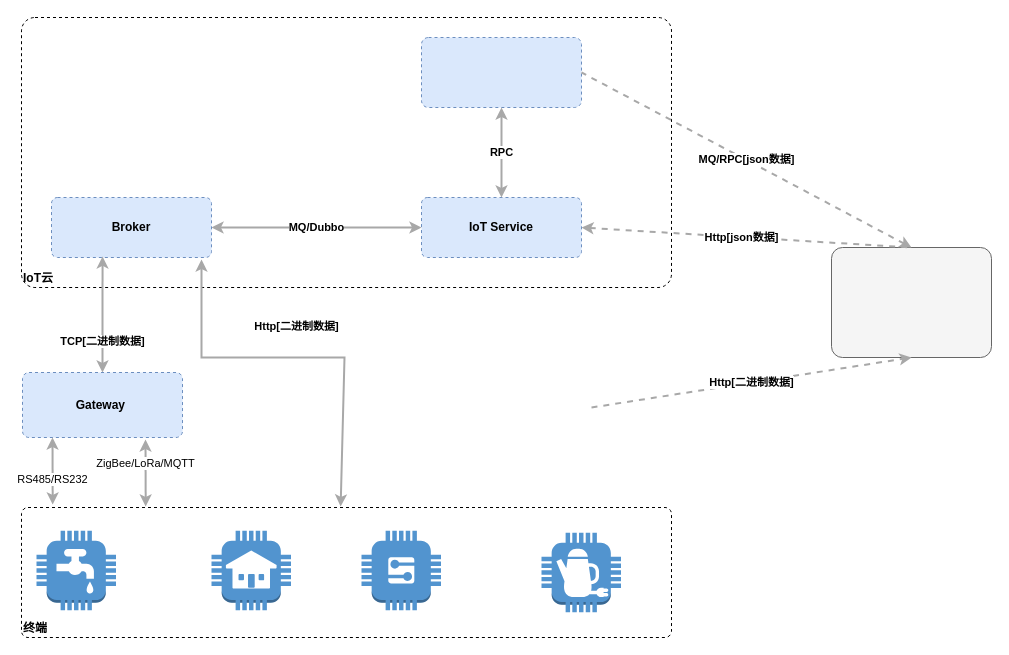
Some shapes in this 1009 by 655 pixel diagram are drawn without their labels. Each missing label, with the centre of its shape:
"Rule" goes at (501,72).
"业务App" goes at (911,302).
